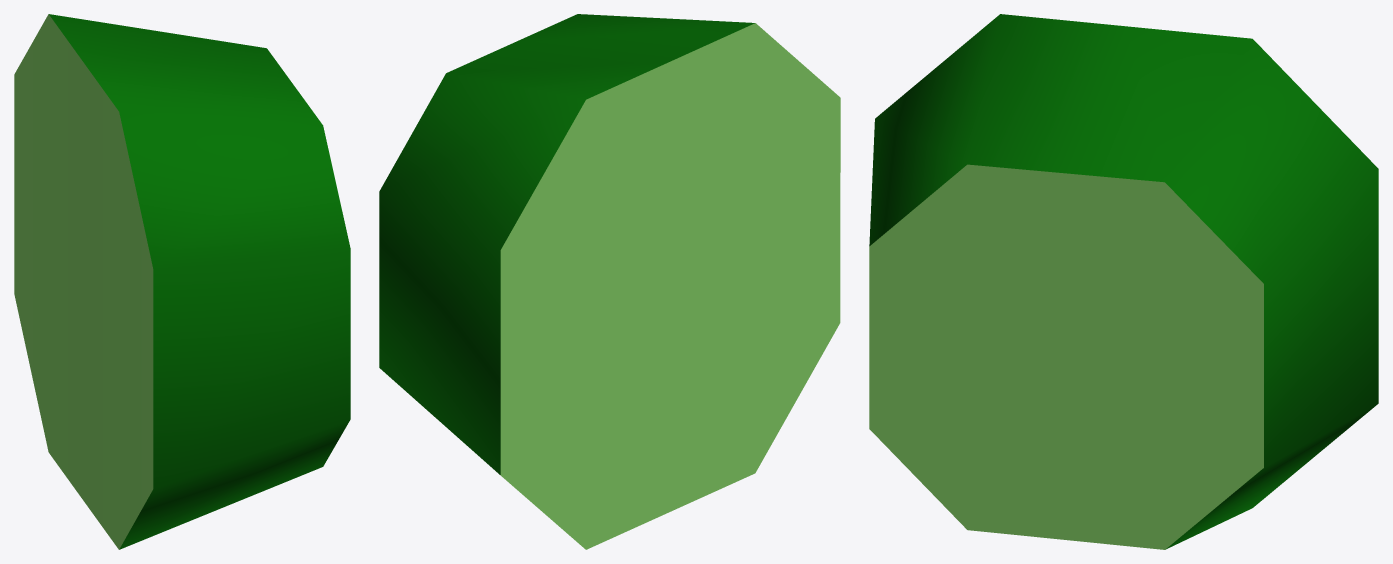
The model's file is mesh_CucumberSlice_Stage13.fbx.
The picture shows the model from 3 angles, left to right: view 1: azimuth 30°, elevation 25°; view 2: azimuth 150°, elevation 25°; view 3: azimuth 270°, elevation 25°; orthographic projection. The views are drawn at different scales.
Visible parts, largest first — view 1: mesh_CucumberSlice_Stage13; view 2: mesh_CucumberSlice_Stage13; view 3: mesh_CucumberSlice_Stage13.
Boxes of the visible parts, x1=… form: mesh_CucumberSlice_Stage13: x1=14, y1=14, x2=350, y2=549; mesh_CucumberSlice_Stage13: x1=379, y1=14, x2=840, y2=549; mesh_CucumberSlice_Stage13: x1=869, y1=14, x2=1378, y2=549.
Size of the model in its own units: 0.0234 by 0.0367 by 0.036.
